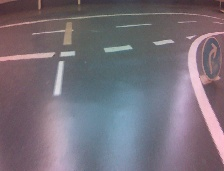turn right ahead sign: (200, 36, 222, 80)
